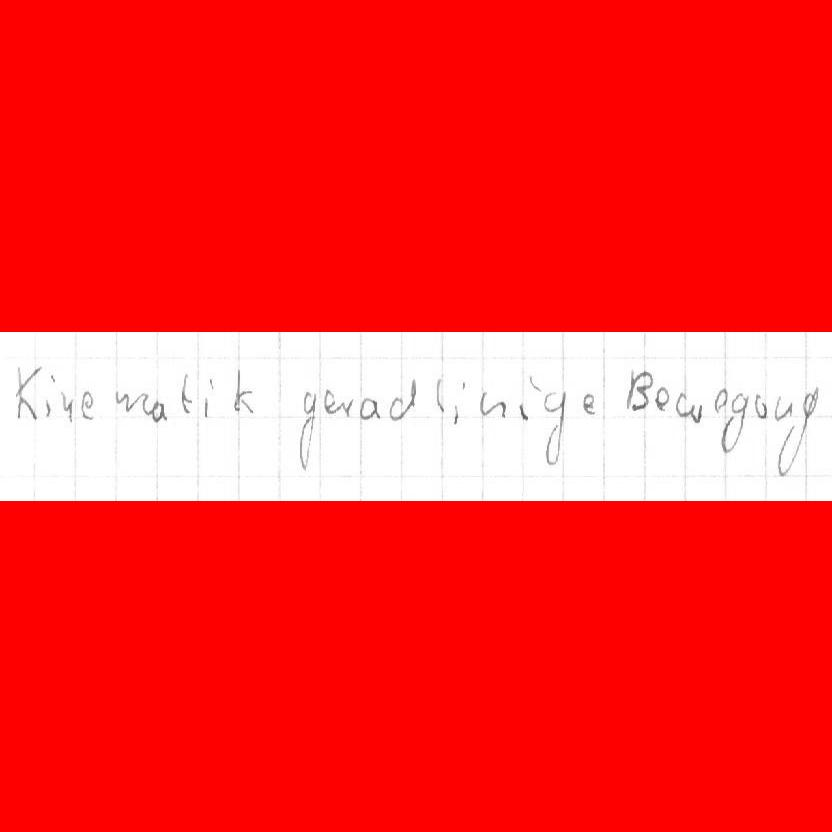Char: (783, 382, 820, 481), (294, 387, 318, 473), (541, 390, 567, 467), (14, 360, 43, 422), (722, 388, 748, 456), (386, 377, 421, 421), (232, 367, 258, 416), (625, 368, 653, 413), (112, 386, 151, 417), (517, 373, 541, 423), (673, 390, 706, 423), (478, 388, 509, 420), (179, 370, 198, 414), (357, 395, 384, 421), (771, 393, 795, 422), (43, 371, 57, 419), (80, 387, 99, 422), (451, 379, 466, 423), (433, 375, 449, 415), (202, 375, 217, 417), (59, 389, 77, 423), (752, 390, 770, 421), (711, 386, 729, 415), (150, 396, 170, 422), (579, 390, 599, 416), (654, 384, 671, 413), (322, 387, 338, 416), (337, 395, 354, 418)
